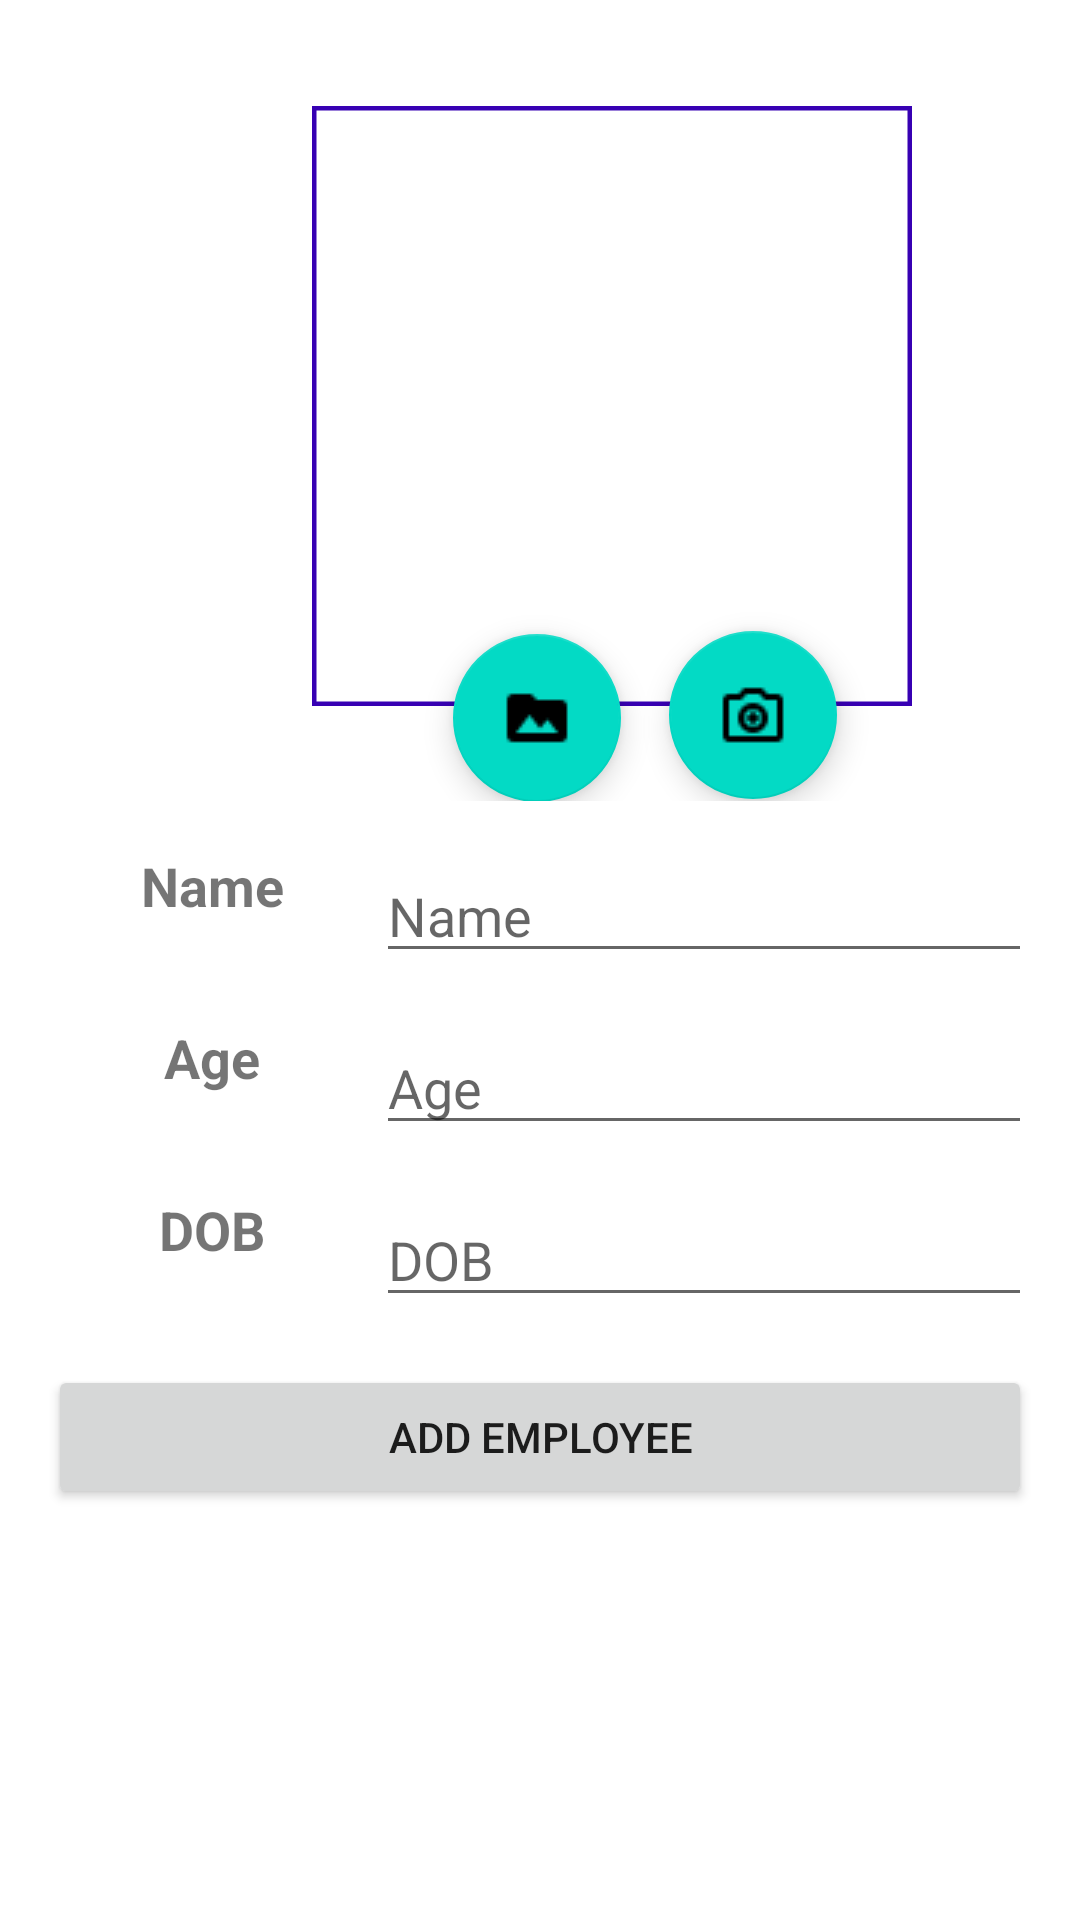

Point at icon controls on the screen. Image size 1080x1920, points as (x=x, y=y).
camera: (x=753, y=715)
gallery: (x=537, y=717)
